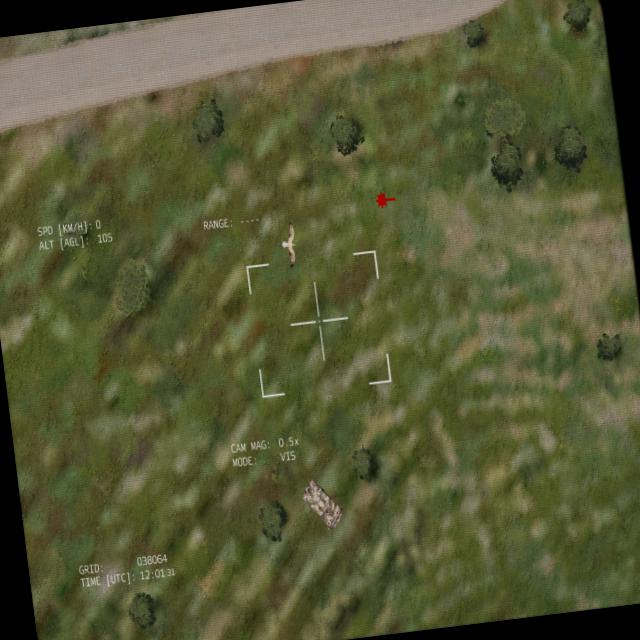apc: (298, 472, 345, 534)
